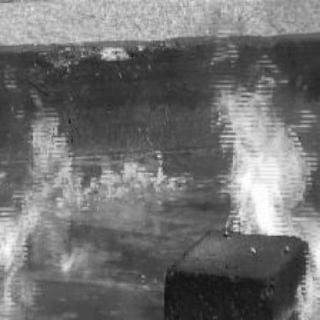Fire: (0, 95, 178, 308)
